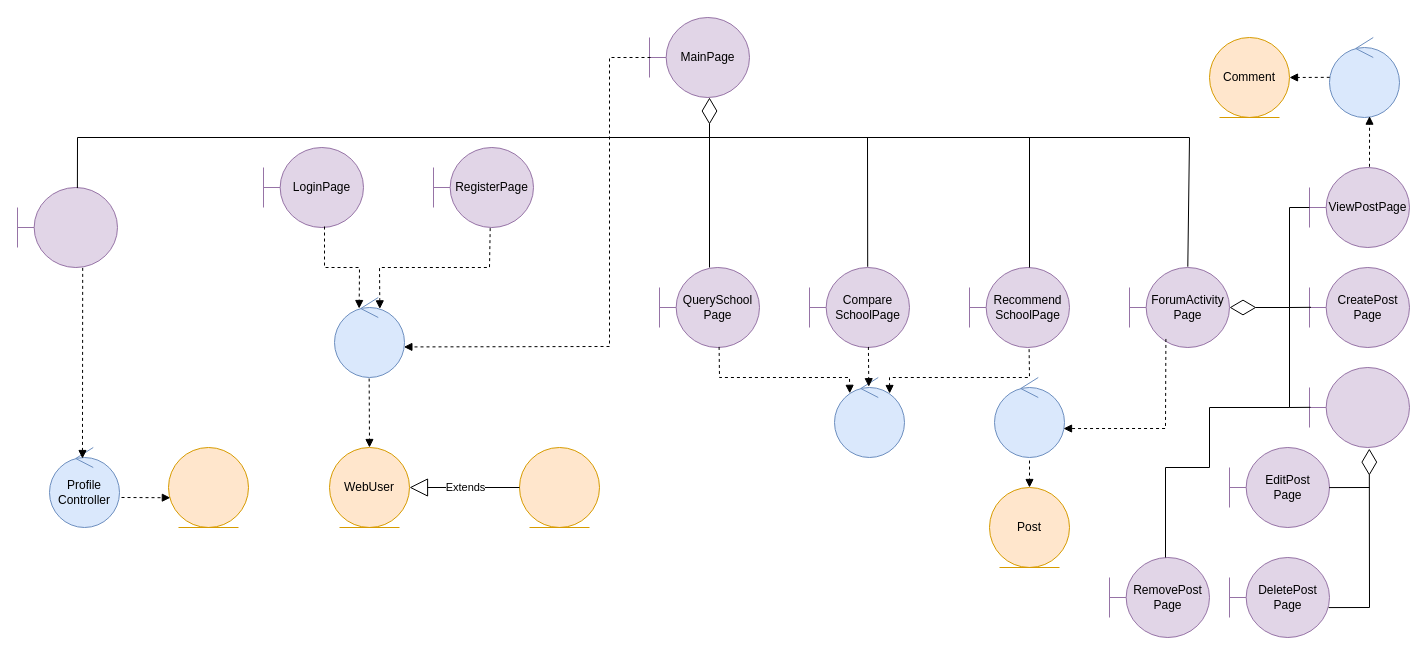
The diagram is 1427 pixels wide and 655 high, and some of its shapes have lost their labels. The centre of each missing label's shape, as x and y in pixels:
"Account Controller" belongs at (x=369, y=337).
"Admin" belongs at (x=559, y=487).
"Comment Controller" belongs at (x=1364, y=77).
"ManagePost ActivityPage" belongs at (x=1359, y=407).
"Post Controller" belongs at (x=1029, y=417).
"Profile" belongs at (x=208, y=487).
"ProfileBuilder Page" belongs at (x=67, y=227).
"School Controller" belongs at (x=869, y=417).
